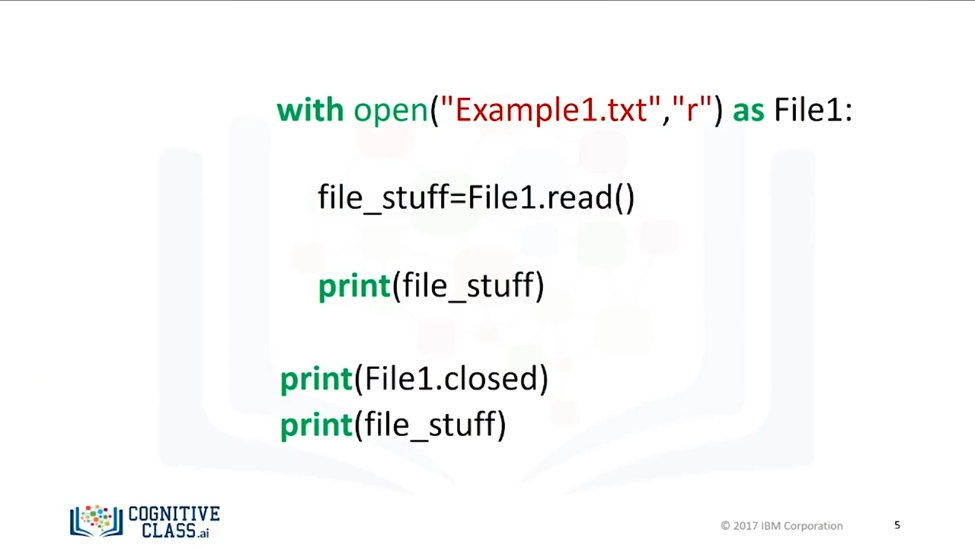code block: (274, 88, 855, 443)
